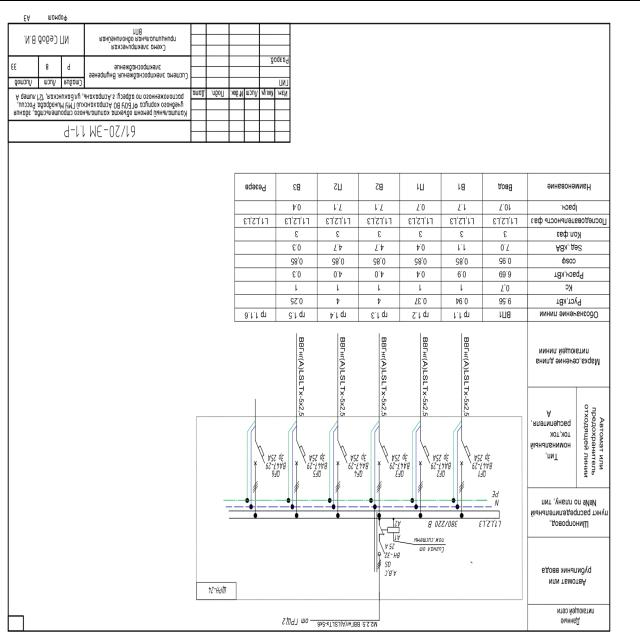-: (470, 451, 494, 469), (264, 452, 288, 470), (389, 451, 413, 469), (429, 452, 454, 469), (306, 452, 331, 469), (348, 452, 372, 469), (384, 542, 402, 558), (207, 584, 227, 594)
KM: (378, 523, 402, 535)
QF: (294, 440, 310, 468), (457, 438, 472, 466), (334, 439, 349, 467), (375, 438, 390, 466), (417, 438, 432, 466), (252, 439, 267, 467)
QS: (377, 540, 385, 570)
